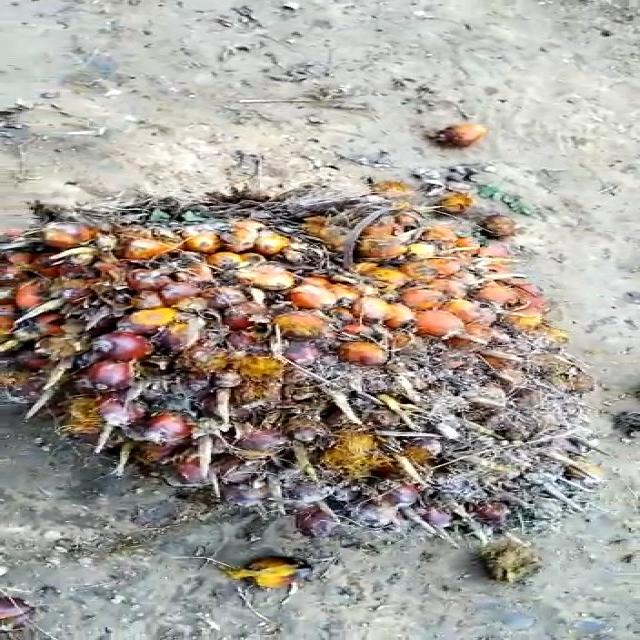palm oil: (0, 166, 640, 548)
